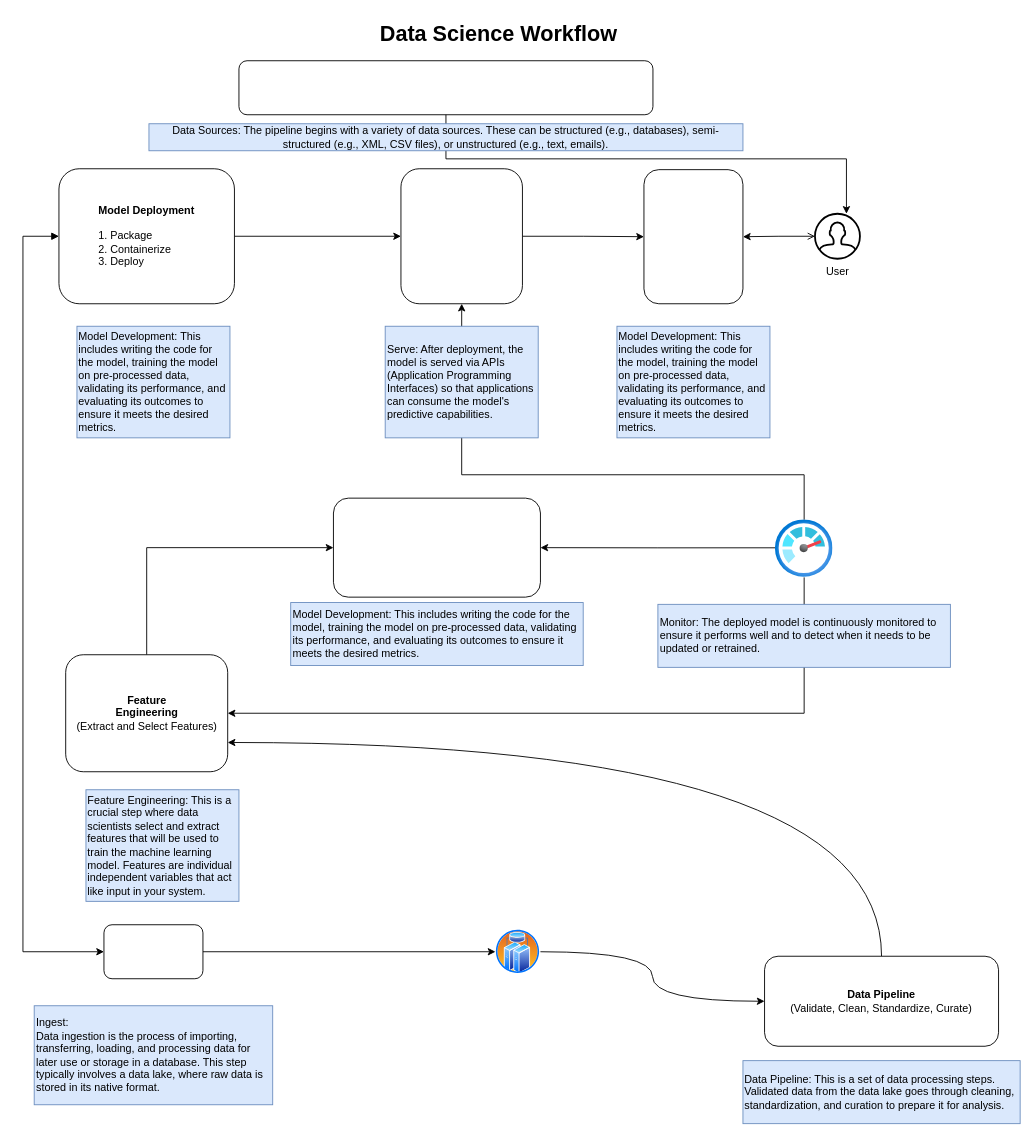
This 1036x1139 diagram has some shape labels left out. Each missing label, with the box of its shape:
Consume (API, Applications): (643, 169, 743, 304)
Data Lake: (495, 929, 540, 974)
Data Sources (Structured, Semi-Structured, Unstructured): (238, 60, 653, 115)
Ingest: (103, 924, 203, 979)
Model Development (Code, Train, Validate, Evaluate): (333, 497, 540, 597)
Monitor: (775, 519, 832, 577)
Serve (API): (400, 168, 522, 304)
